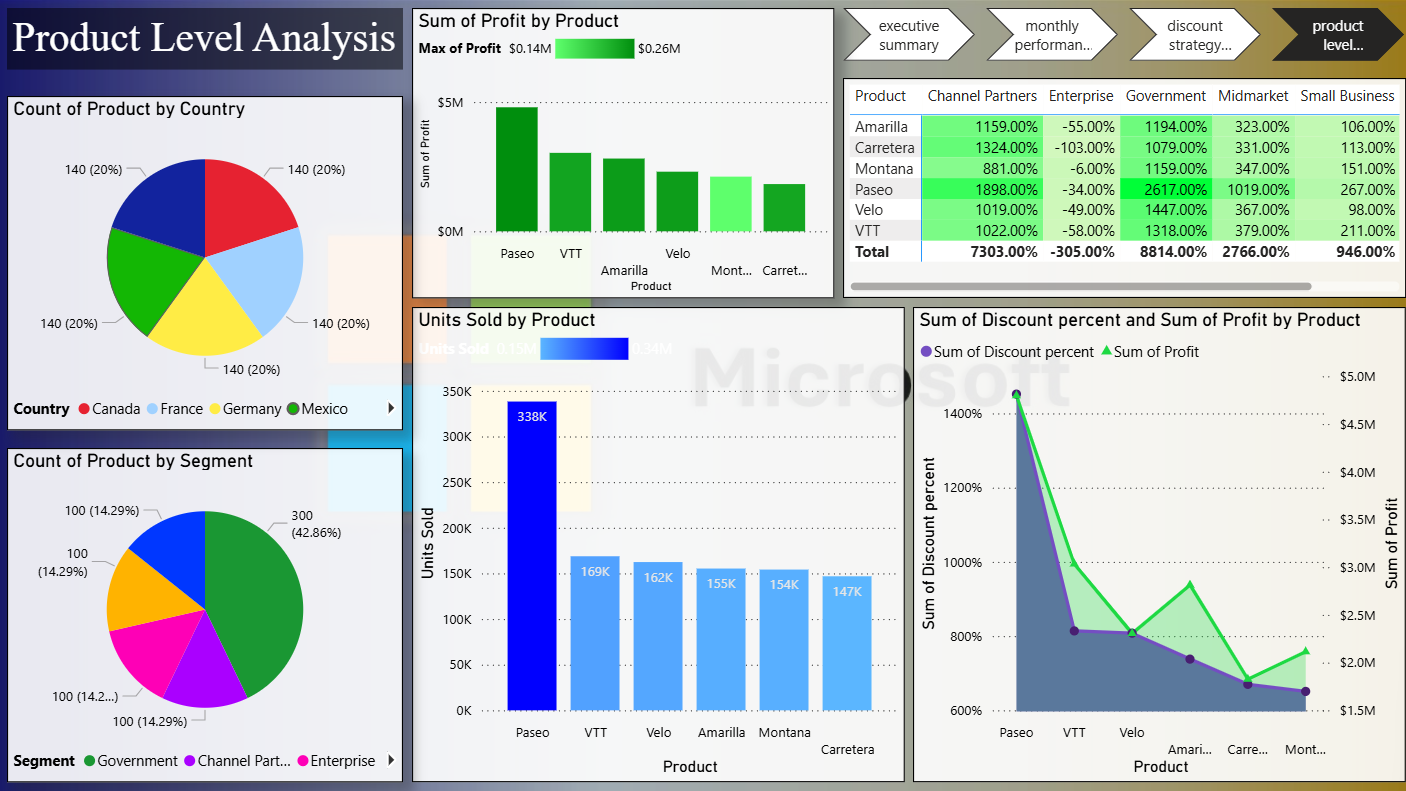

This screenshot's page, from the dashboard's own definition file:
{"tool":"powerbi","page":{"name":"product level analysis","canvas":[1280,720],"ordinal":3},"visuals":[{"type":"textbox","box":[8,8,360,56],"z":1000},{"type":"pageNavigator","box":[768,8,512,48],"z":2000},{"type":"columnChart","fields":{"Category":["Financial Sample. Product "],"Y":["Sum(Financial Sample.Profit)"]},"box":[376,8,384,264],"z":4000},{"type":"areaChart","fields":{"Category":["Financial Sample. Product "],"Y2":["Sum(Financial Sample.Profit)"],"Y":["Sum(Financial Sample.Discount percent)"]},"box":[832,280,448,432],"z":5000},{"type":"pivotTable","fields":{"Rows":["Financial Sample. Product "],"Columns":["Financial Sample.Segment"],"Values":["Sum(Financial Sample.Profit margin)"]},"box":[768,72,512,200],"z":6000},{"type":"columnChart","fields":{"Category":["Financial Sample. Product "],"Y":["Sum(Financial Sample.Units Sold)"]},"box":[376,280,448,432],"z":7000},{"type":"pieChart","fields":{"Category":["Financial Sample.Segment"],"Y":["CountNonNull(Financial Sample. Product )"]},"box":[8,408,360,304],"z":8000},{"type":"pieChart","fields":{"Y":["CountNonNull(Financial Sample. Product )"],"Category":["Financial Sample.Country"]},"box":[8,88,360,304],"z":9000}]}

Visuals, with their boxes in screenshot pixels (x1, y1, x2, y2), scaled from the page's 1280x720 canvas onto the 1406x791 screenshot:
textbox: [x1=9, y1=9, x2=404, y2=70]
pageNavigator: [x1=844, y1=9, x2=1405, y2=62]
columnChart - Financial Sample. Product  x Sum(Financial Sample.Profit): [x1=413, y1=9, x2=835, y2=299]
areaChart - Financial Sample. Product  x Sum(Financial Sample.Profit): [x1=914, y1=308, x2=1405, y2=782]
pivotTable - Financial Sample. Product  x Financial Sample.Segment: [x1=844, y1=79, x2=1405, y2=299]
columnChart - Financial Sample. Product  x Sum(Financial Sample.Units Sold): [x1=413, y1=308, x2=905, y2=782]
pieChart - Financial Sample.Segment x CountNonNull(Financial Sample. Product ): [x1=9, y1=448, x2=404, y2=782]
pieChart - CountNonNull(Financial Sample. Product ) x Financial Sample.Country: [x1=9, y1=97, x2=404, y2=431]
